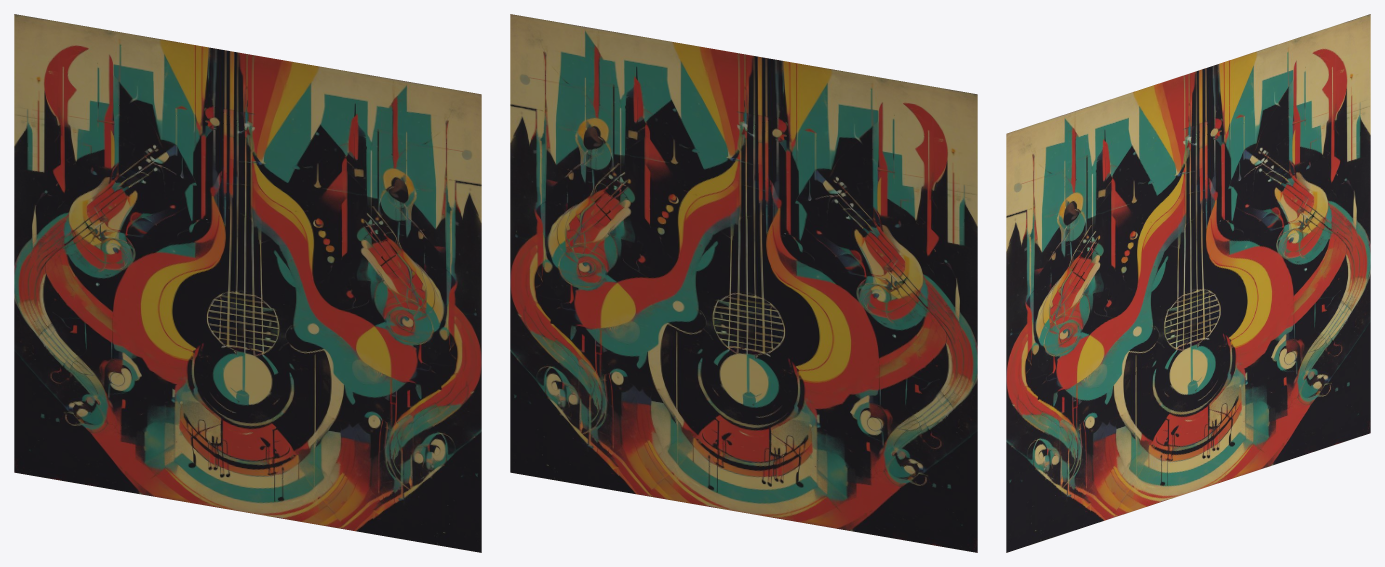
Rendered from image02.glb.
3 views of the same model, side by side, from view 1: azimuth 30°, elevation 25°; view 2: azimuth 210°, elevation 25°; view 3: azimuth 270°, elevation 25° (orthographic). The views are drawn at different scales.
Visible parts, largest first — view 1: image02; view 2: image02; view 3: image02.
Part boxes in pixels (left/top/right/bottom): image02: left=14, top=14, right=481, bottom=552; image02: left=510, top=14, right=977, bottom=552; image02: left=1006, top=14, right=1370, bottom=552.
Size of the model in its own units: 1.38 by 2.25 by 1.77.
Materials: 1 (1 with a texture image).
